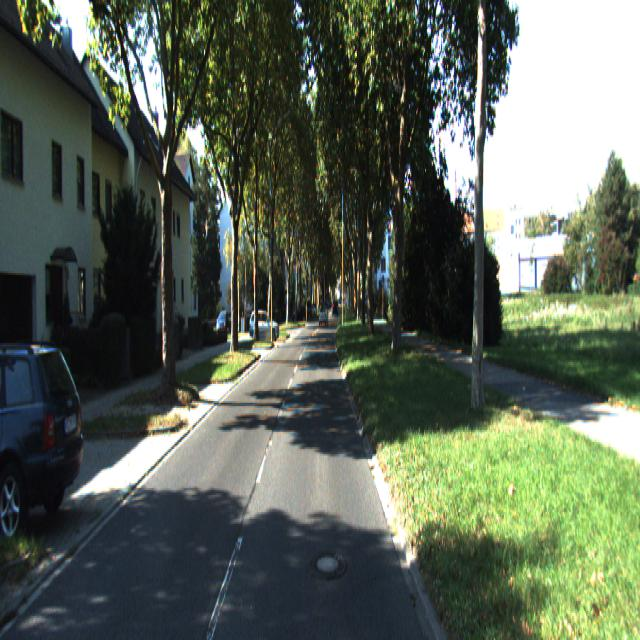Car: (0, 331, 94, 545), (248, 309, 280, 341)
